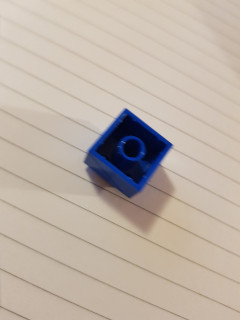2x2 blue: (83, 107, 174, 200)
